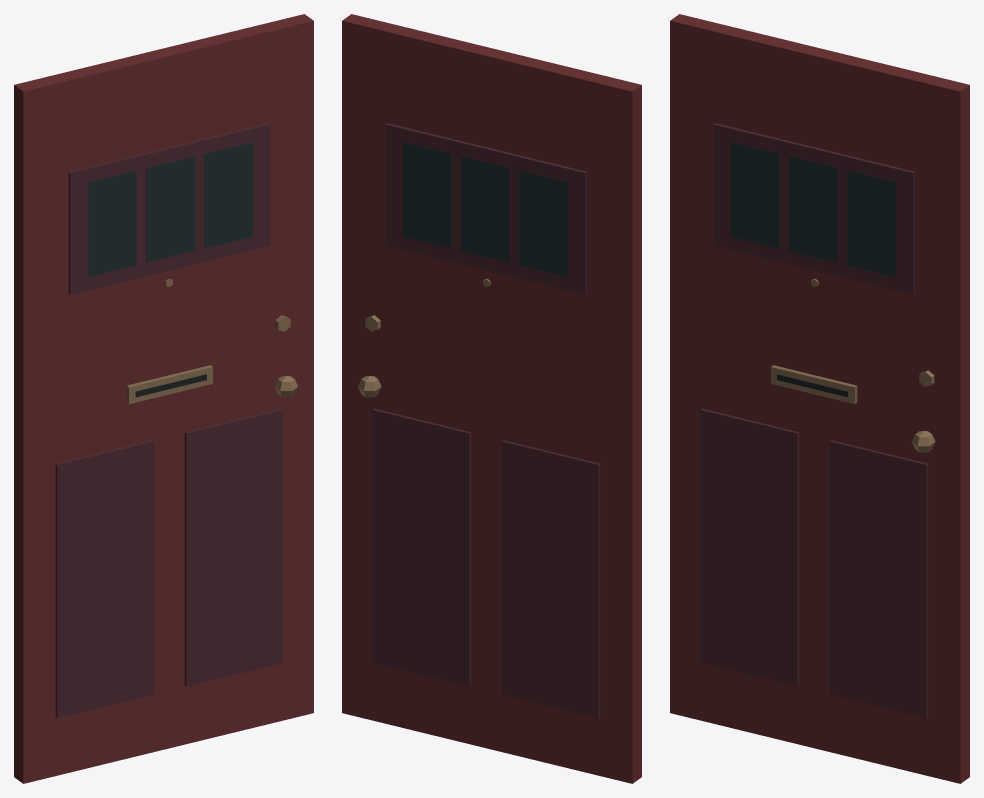
File: usa_intrare.glb
The picture shows the model from 3 angles, left to right: view 1: azimuth 30°, elevation 25°; view 2: azimuth 150°, elevation 25°; view 3: azimuth 330°, elevation 25°; orthographic projection.
Visible parts, largest first — view 1: UsaIntrare; view 2: UsaIntrare; view 3: UsaIntrare.
Part boxes in pixels (bbox=[...]): UsaIntrare: bbox=[14, 14, 313, 783]; UsaIntrare: bbox=[342, 14, 641, 783]; UsaIntrare: bbox=[670, 14, 969, 783].
Size of the model in its own units: 0.9 by 2.05 by 0.164.
